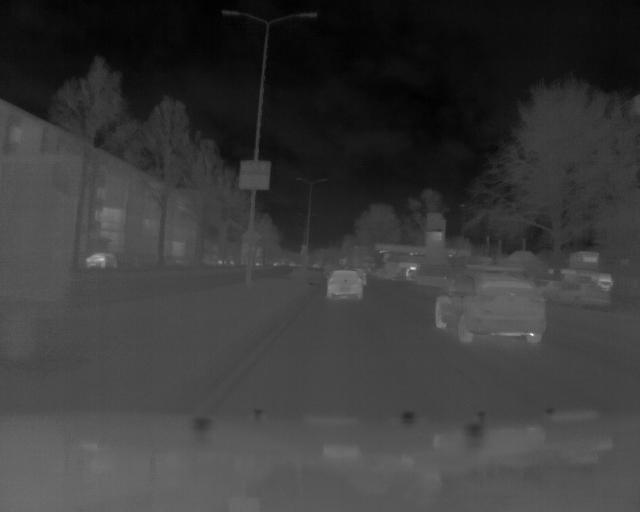car: (433, 266, 549, 345), (325, 269, 365, 301), (85, 252, 117, 269)
